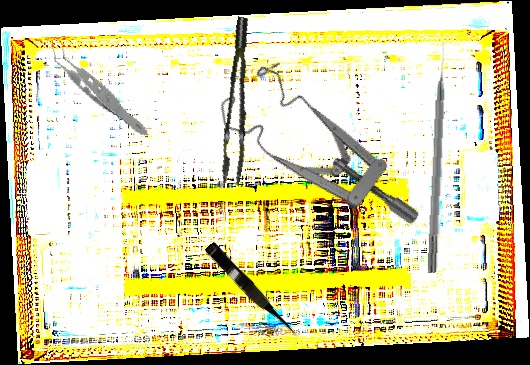Micro Scissor: (202, 241, 302, 343)
Pusher: (426, 41, 452, 274)
Speculum: (208, 35, 423, 281)
Tissue Forceps: (48, 21, 150, 155), (206, 16, 271, 186)
